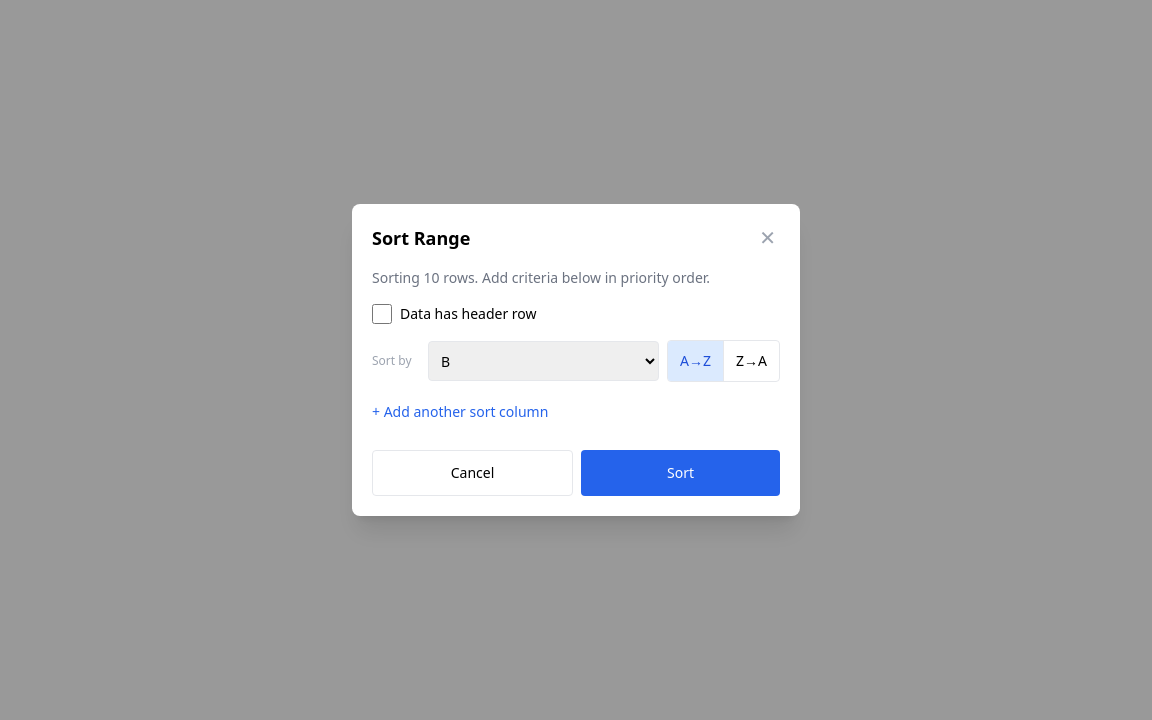
SortDialog › adds a new sort level when clicking "Add another sort column"
The image size is (1152, 720).
Expected: the text "Then by" is not shown
Click the button "+ Add another sort column".
click(460, 412)  # box [372, 398, 548, 426]
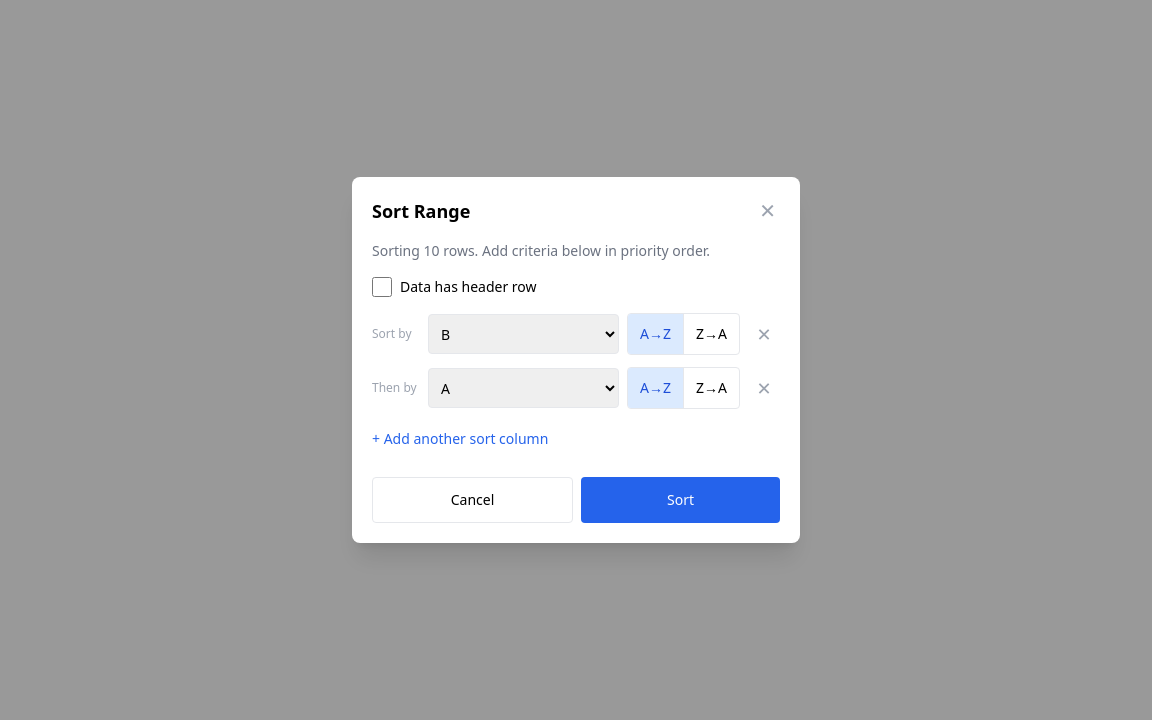
Expected: the text "Sort by" is shown, [372, 325, 412, 342]
Expected: the text "Then by" is shown, [372, 380, 420, 396]
